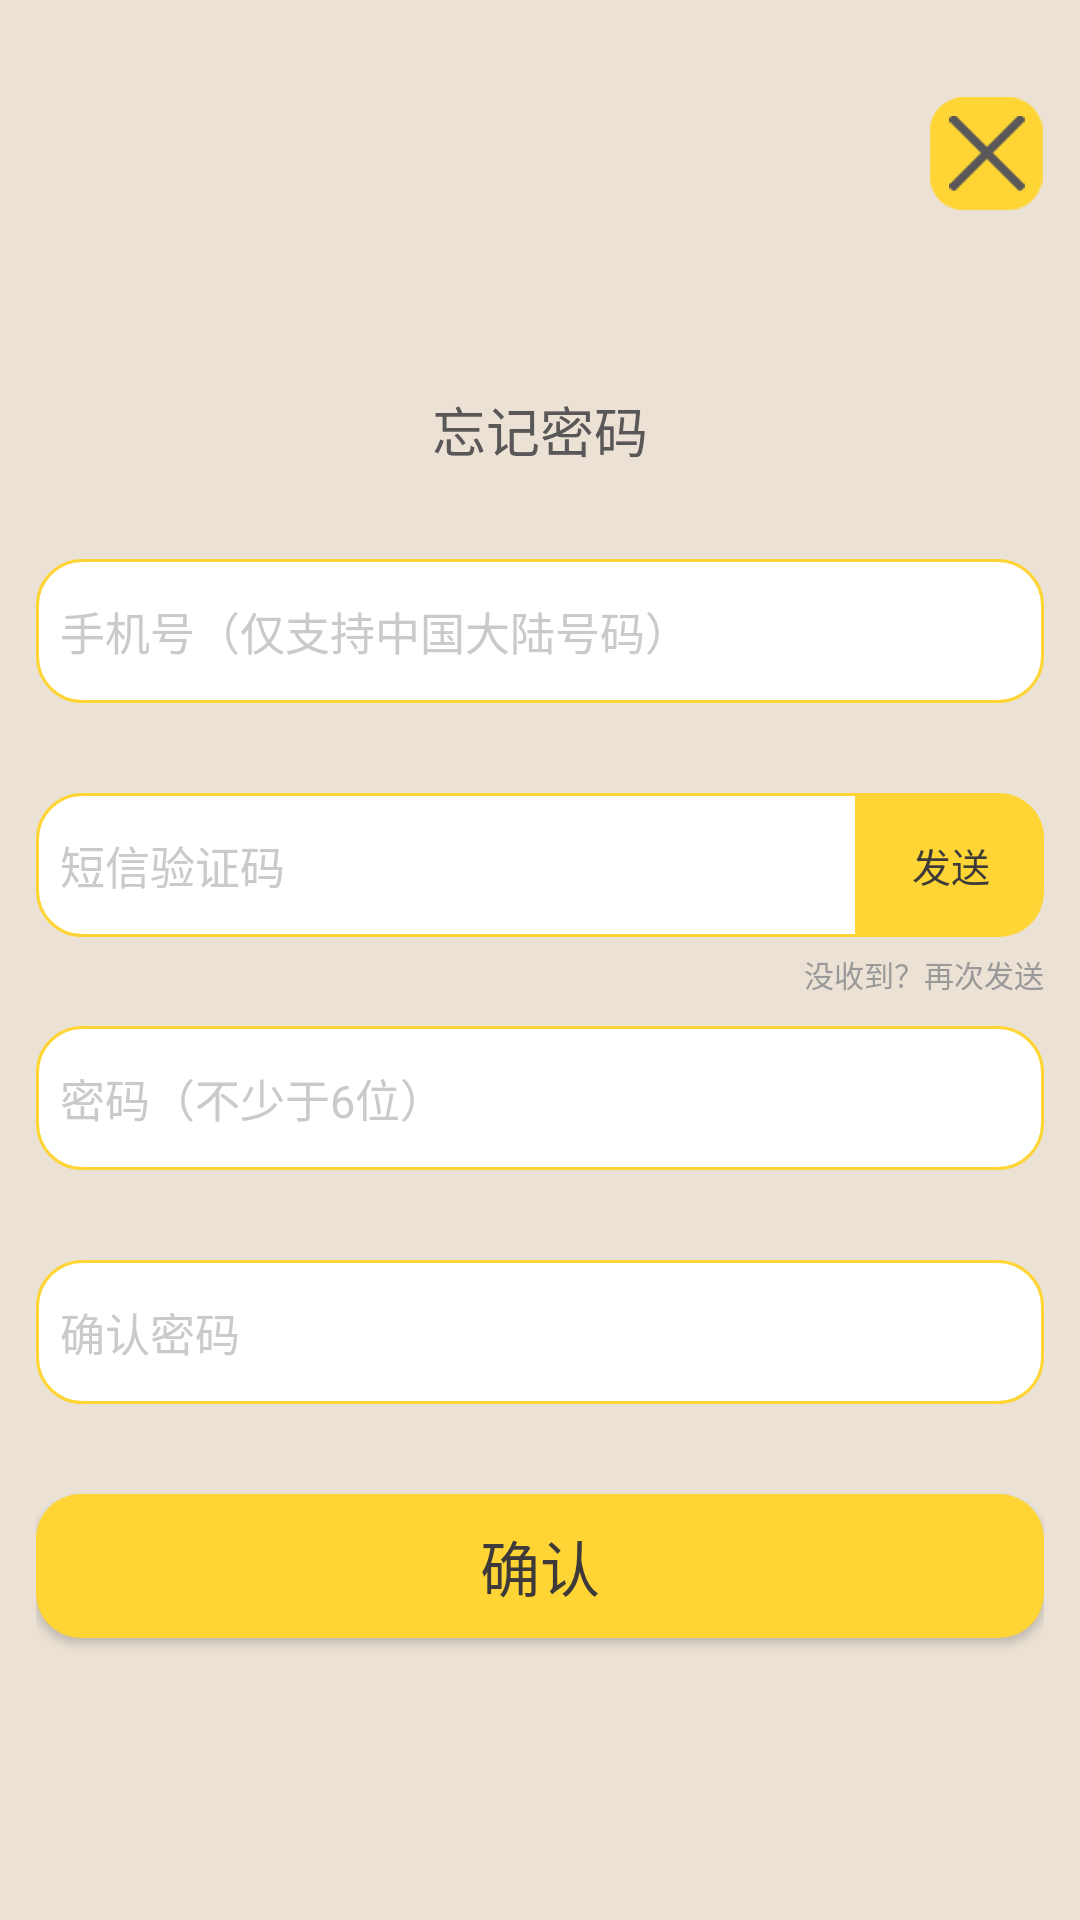

Locate icon controls on the screen. Image size 1080px×1920px, boxes as {"left": x1, "top": y1, "right": x2, "bottom": y2}.
close: {"left": 930, "top": 97, "right": 1043, "bottom": 210}
